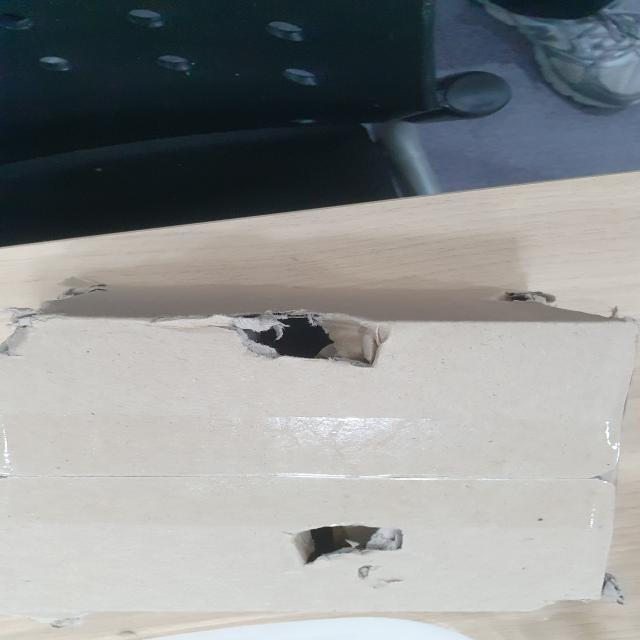hole: (213, 313, 405, 369), (276, 518, 412, 567)
